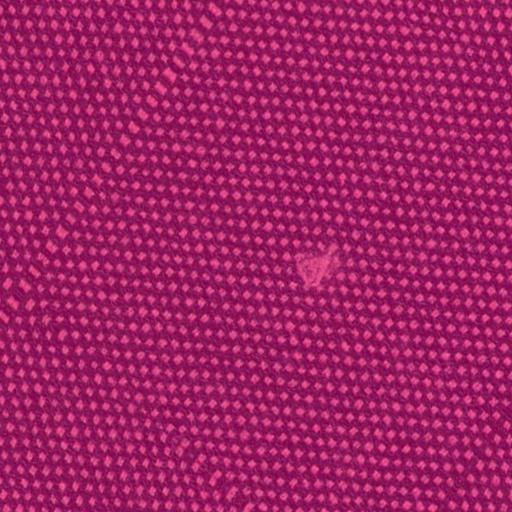knot: (289, 236, 352, 293)
